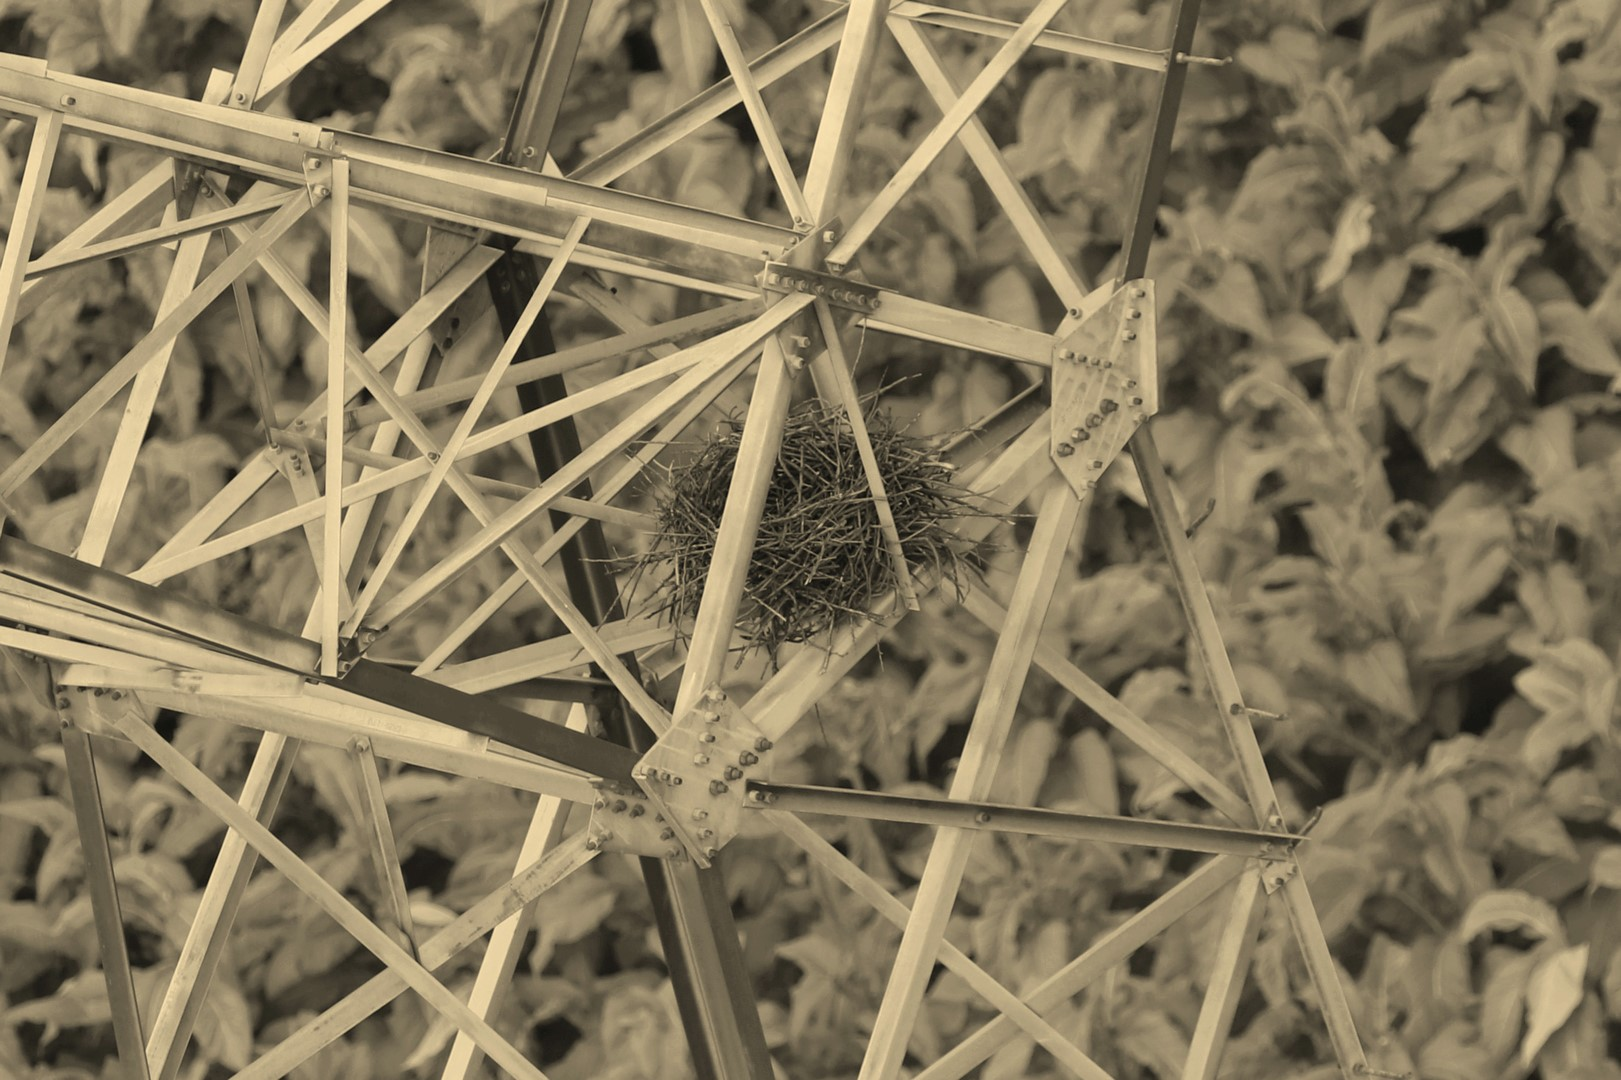niaowo: (640, 368, 974, 664)
